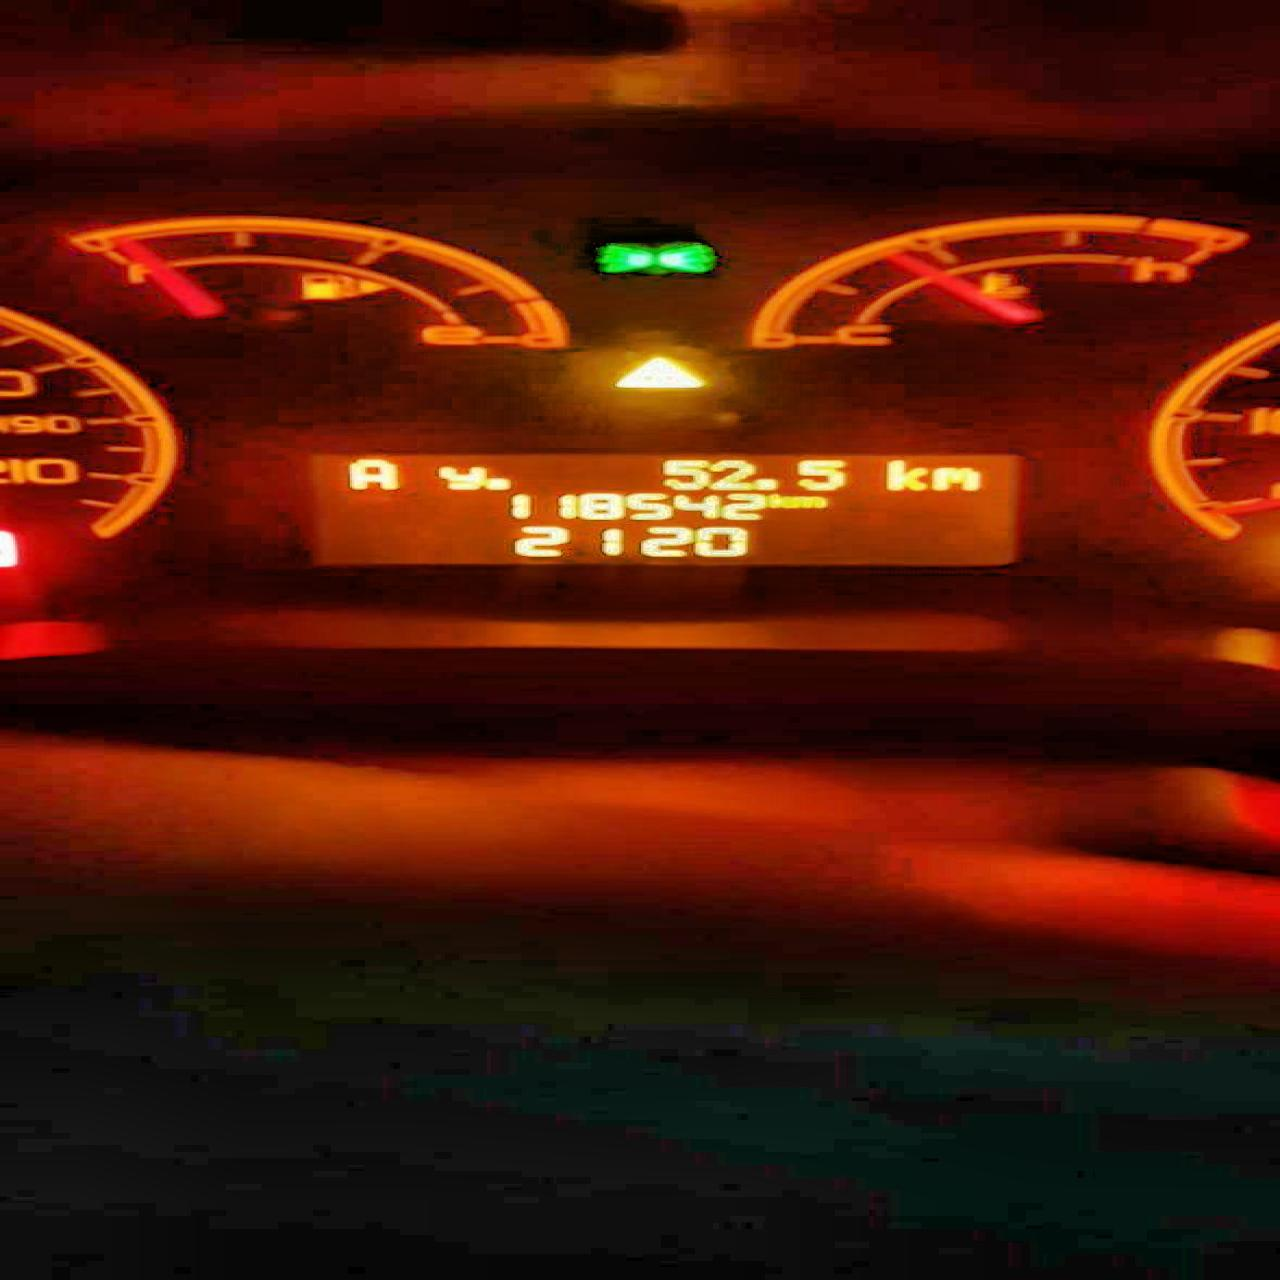-: (484, 476, 511, 490), (754, 476, 779, 490)
0: (693, 525, 750, 557)
1: (600, 526, 628, 557), (509, 492, 532, 518), (554, 493, 576, 520)
2: (636, 525, 692, 557), (515, 524, 565, 558), (710, 459, 754, 490), (721, 492, 764, 520)
4: (669, 493, 722, 520)
5: (796, 458, 847, 491), (660, 458, 710, 490), (624, 490, 672, 520)
8: (573, 490, 624, 519)
X: (343, 456, 397, 490), (883, 458, 927, 490), (930, 467, 982, 491), (436, 464, 484, 490), (791, 496, 828, 509), (764, 493, 794, 509)
odometer: (293, 448, 1023, 568)
